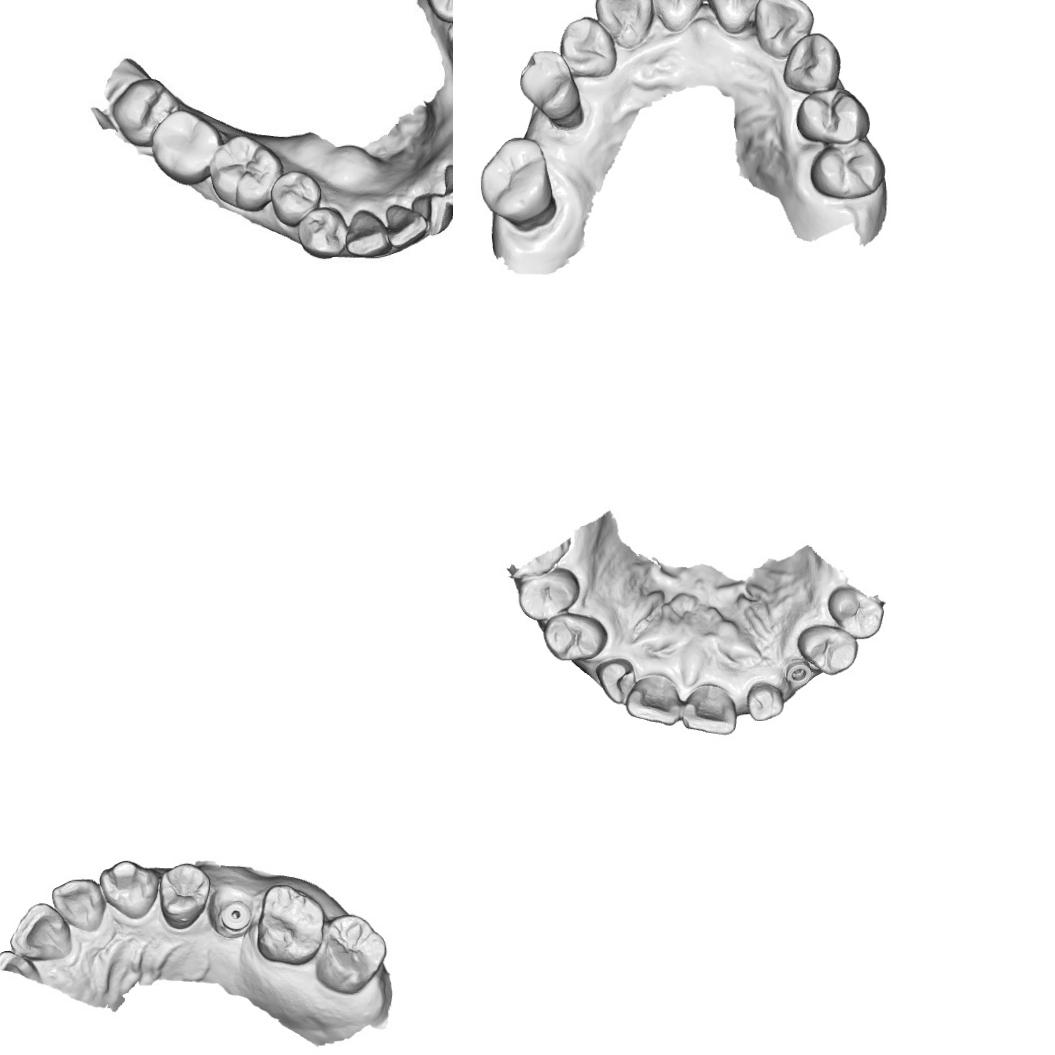canine: (558, 14, 618, 80), (98, 857, 159, 921), (782, 32, 841, 92), (344, 212, 391, 262)
implant: (213, 898, 253, 940), (786, 666, 810, 688)
incisor: (7, 900, 74, 962), (753, 0, 815, 60), (50, 876, 108, 934), (681, 679, 738, 738), (624, 672, 682, 728), (595, 0, 653, 49), (642, 0, 707, 32), (703, 0, 770, 31), (387, 202, 426, 252), (594, 658, 633, 706), (744, 680, 785, 723), (417, 192, 453, 235), (445, 166, 453, 202)
molar: (476, 135, 556, 226), (314, 913, 388, 997), (256, 882, 324, 966), (208, 135, 280, 210), (153, 108, 216, 185), (109, 79, 172, 149)
premolar: (806, 139, 884, 199), (794, 86, 871, 142), (157, 861, 212, 932), (516, 44, 577, 108), (514, 566, 582, 622), (827, 583, 887, 643), (540, 611, 609, 663), (794, 622, 860, 676), (271, 172, 323, 226), (299, 204, 345, 260)
